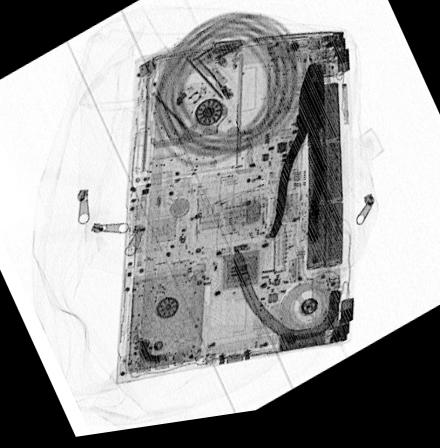Pliers: (266, 69, 330, 256)
